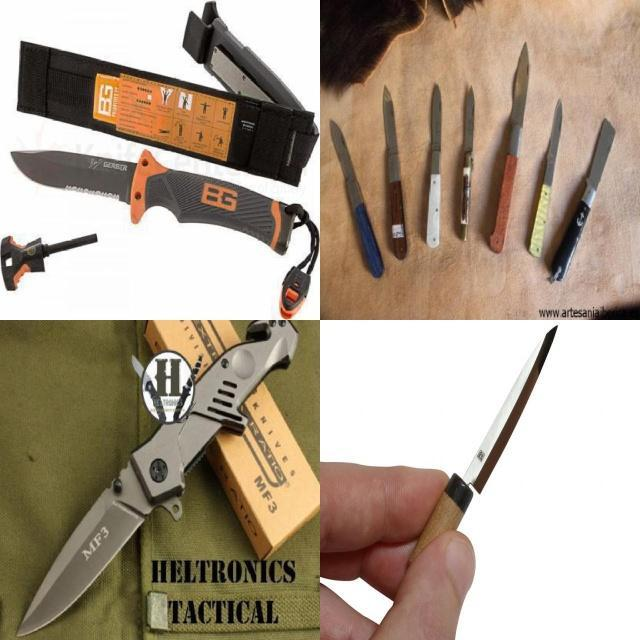-: (410, 322, 560, 576), (10, 462, 147, 639), (8, 146, 138, 208), (327, 112, 366, 213), (502, 35, 532, 162), (381, 78, 405, 194), (425, 79, 445, 184), (542, 92, 564, 185), (459, 82, 476, 177)
